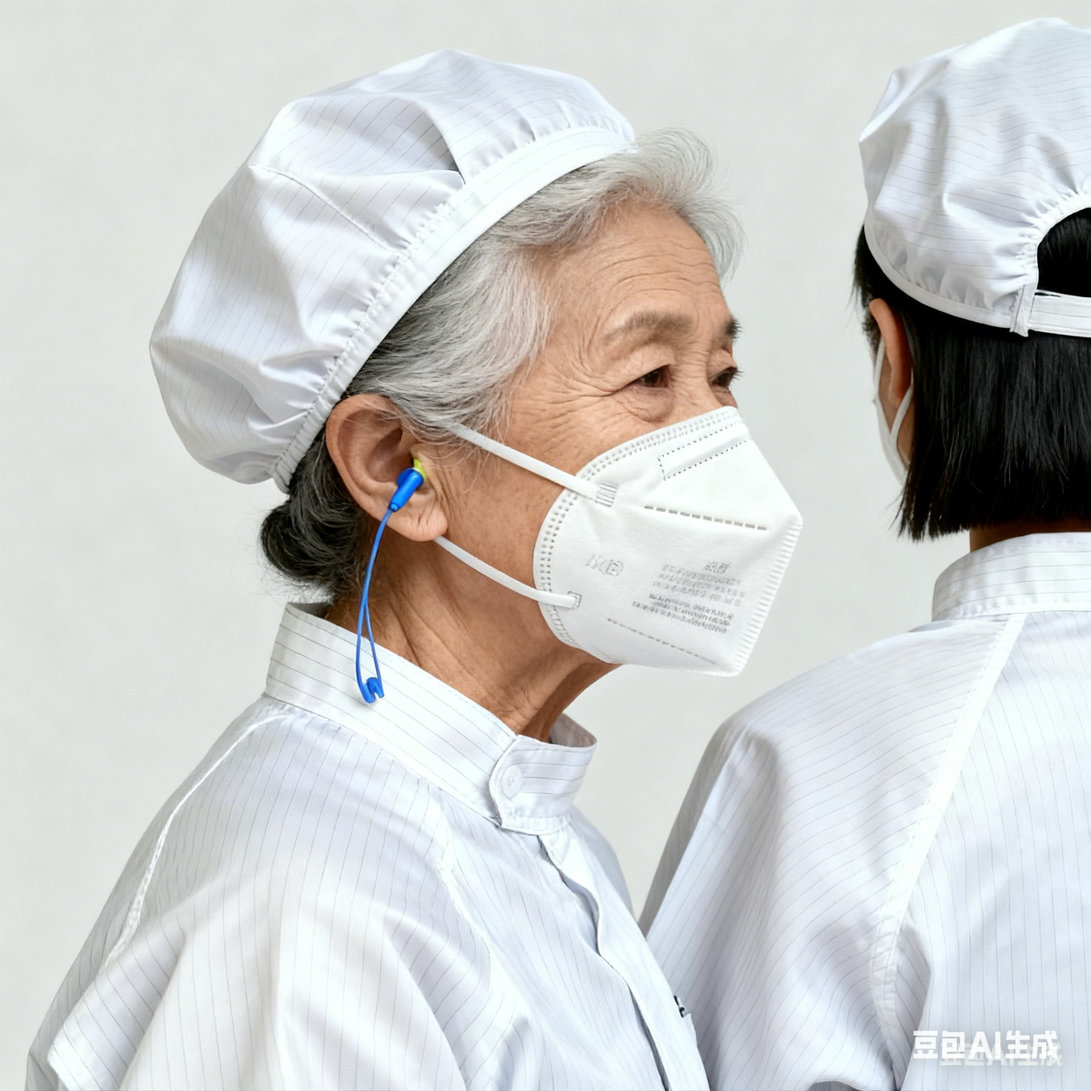MASK: (525, 402, 798, 670)
